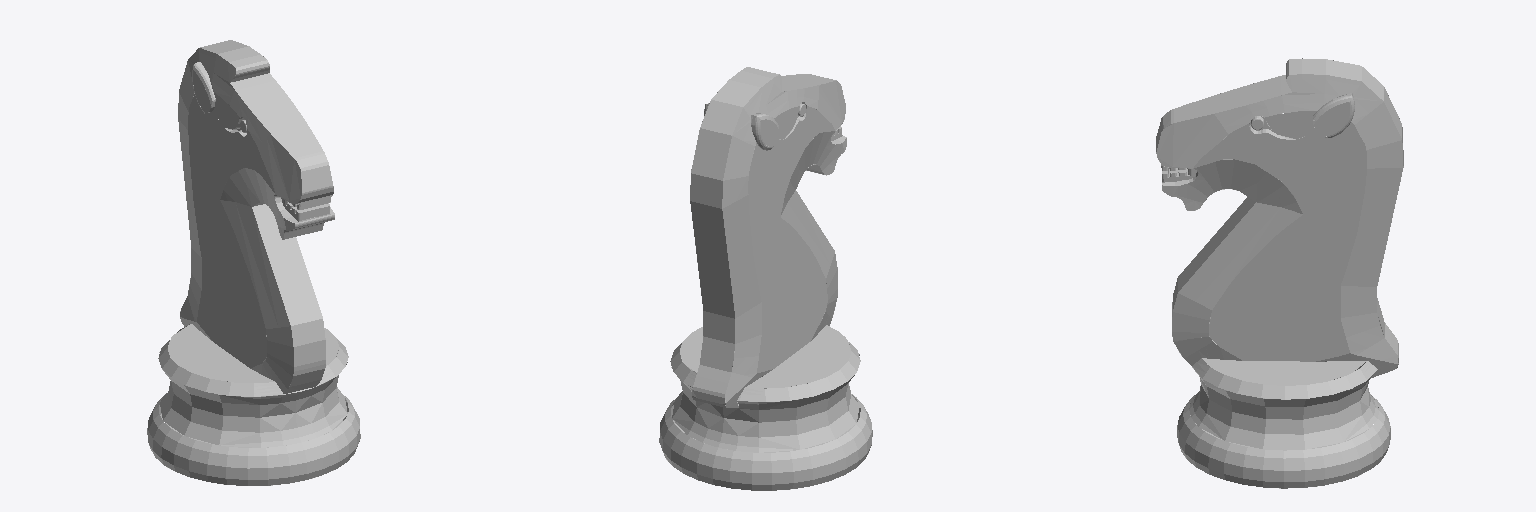
The model's file is knight.obj.
The picture shows the model from 3 angles: view 1: azimuth 30°, elevation 25°; view 2: azimuth 150°, elevation 25°; view 3: azimuth 270°, elevation 25°; orthographic projection.
Bounding box in the file's own units: 1.61 × 3.15 × 1.86.